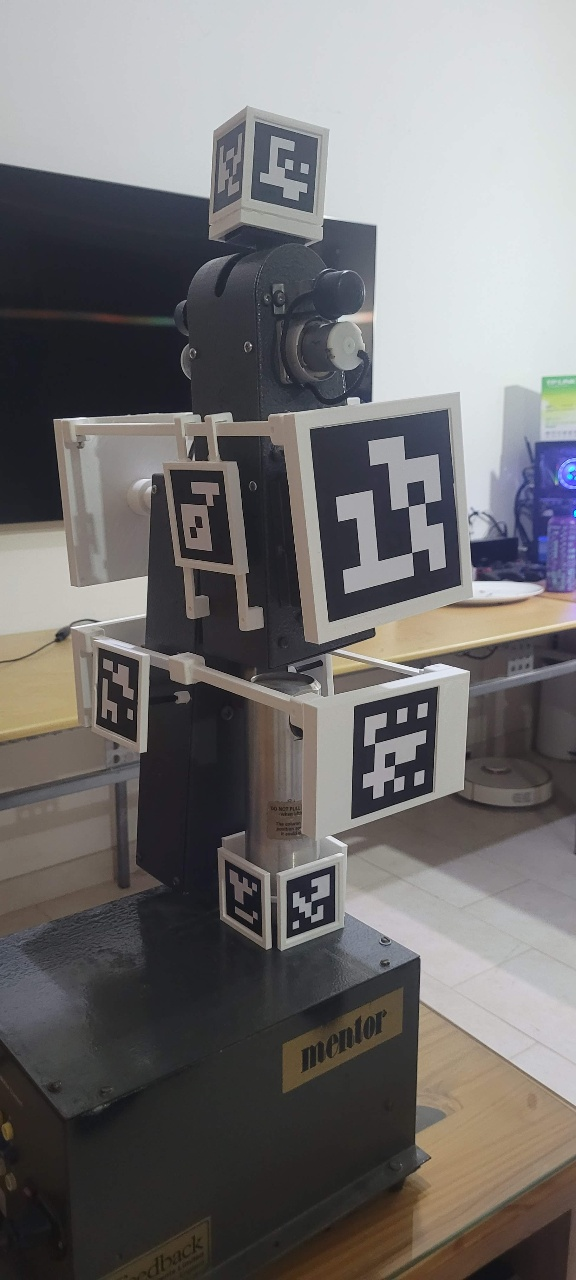Robot: (82, 178, 528, 1143)
